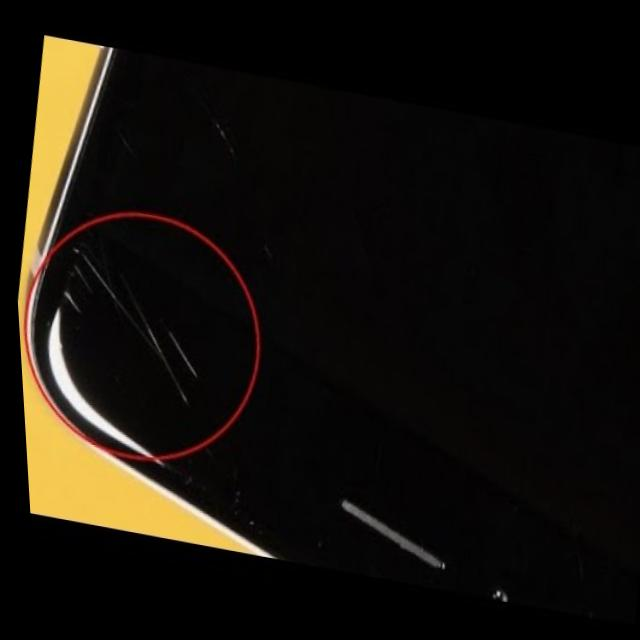scratch: (48, 240, 200, 415)
